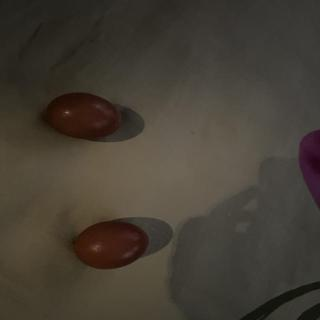Telur: (66, 216, 156, 272), (39, 91, 127, 143)
